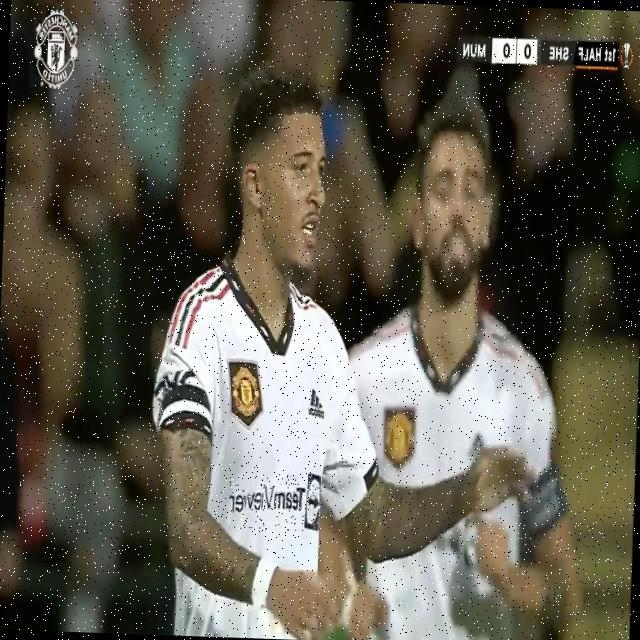Adidas: (306, 385, 326, 420)
TeamViewer: (227, 472, 322, 531)
